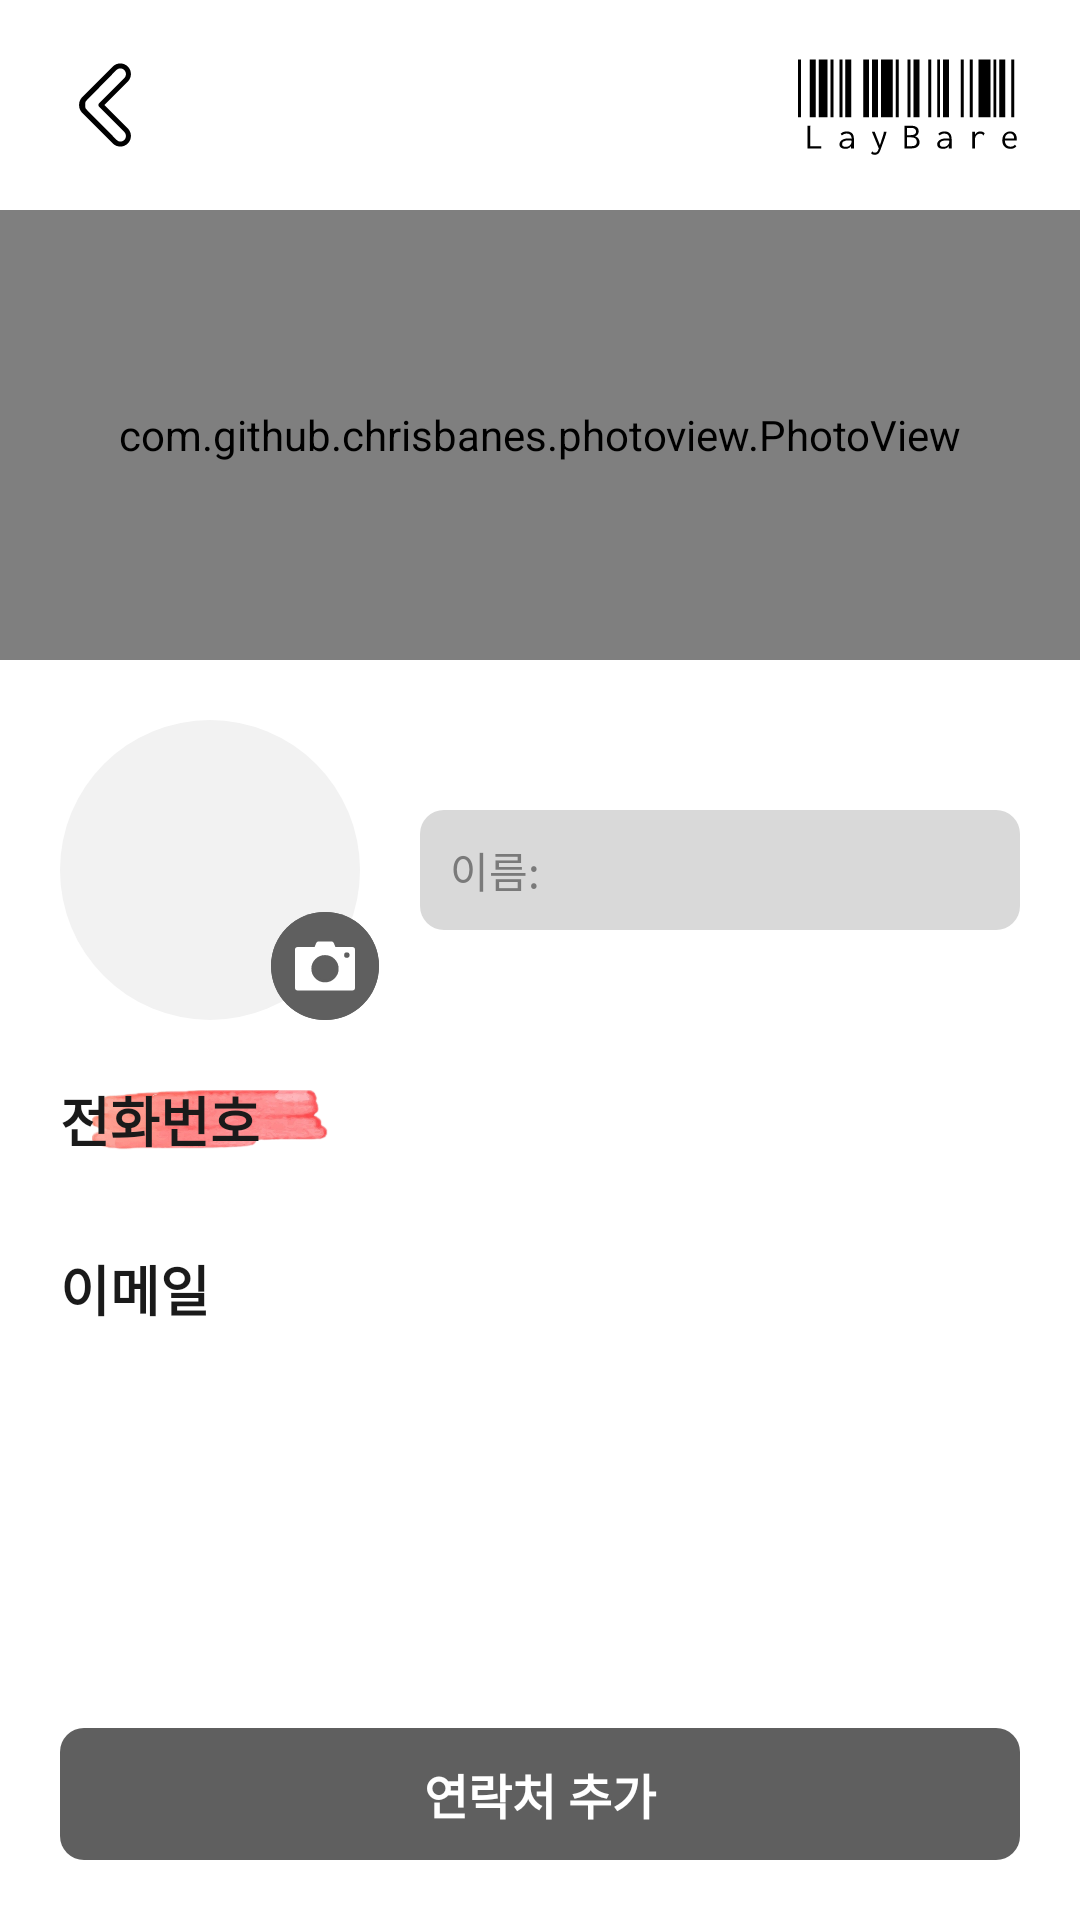

Point at icon controls on the screen. Image size 1080 × 1920, points as [x,y].
back arrow: [105,105]
select photo: [325,966]
